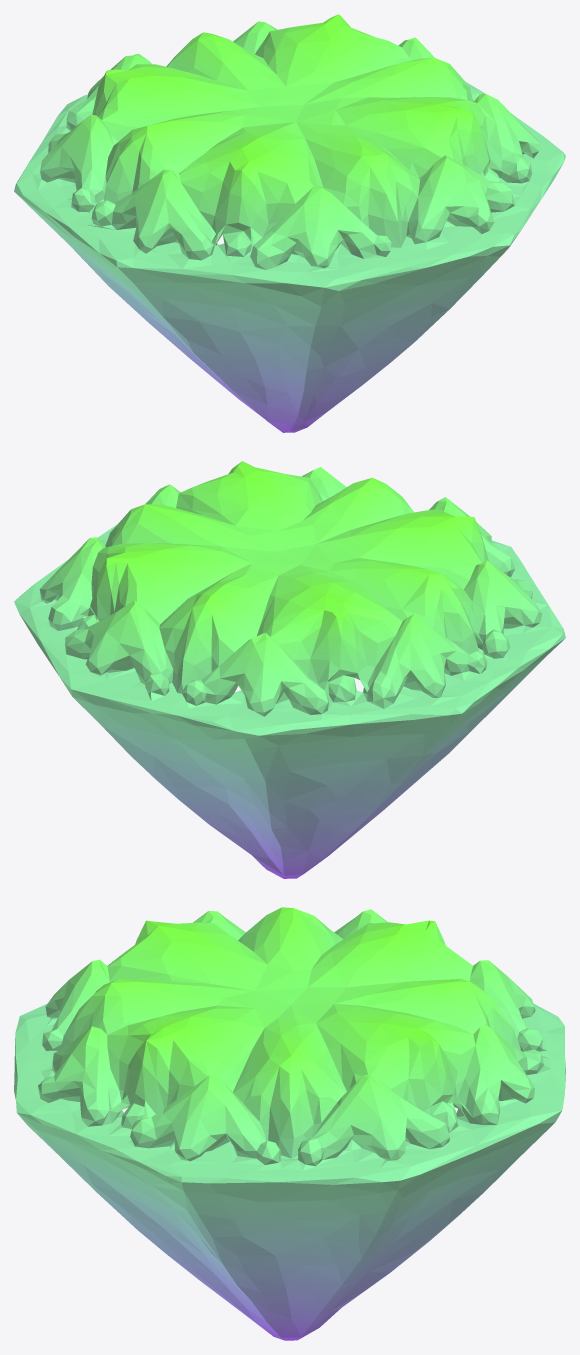
Rendered from 21_cyb_laser_gradient_fish_scales_2958_2026_10_03_7c75be.glb.
The picture shows the model from 3 angles, top to bottom: view 1: azimuth 30°, elevation 25°; view 2: azimuth 150°, elevation 25°; view 3: azimuth 270°, elevation 25°; orthographic projection. The views are drawn at different scales.
Parts seen in each view (by area): view 1: geometry_0; view 2: geometry_0; view 3: geometry_0.
Part boxes in pixels (x1,y1,x2,y2): geometry_0: (14,14,565,432); geometry_0: (14,461,565,878); geometry_0: (14,907,565,1340).
Bounding box in the file's own units: 1 × 0.7218 × 1.
